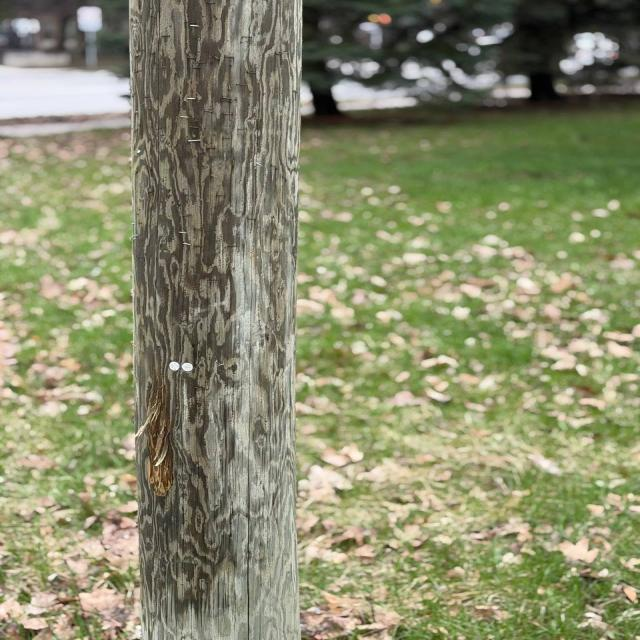Electrical Pole: (126, 0, 319, 638)
